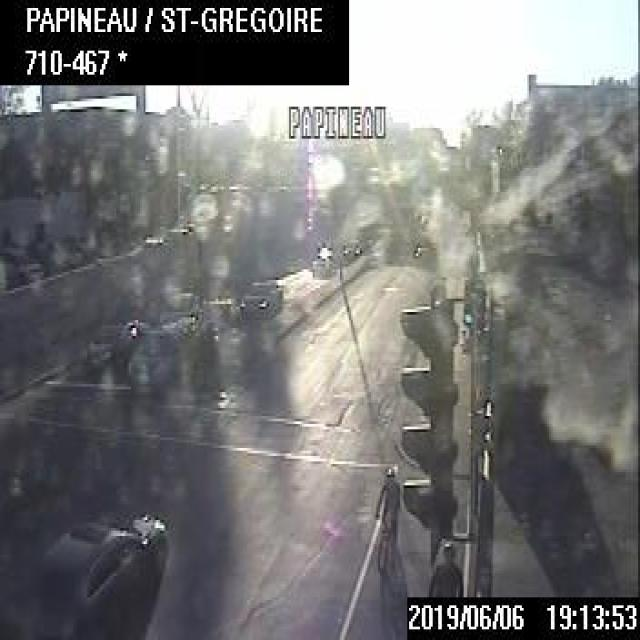cyclist: (373, 466, 398, 570), (425, 538, 462, 594)
vehicle: (6, 507, 167, 637), (122, 314, 187, 394), (238, 275, 284, 317), (309, 242, 335, 274)
